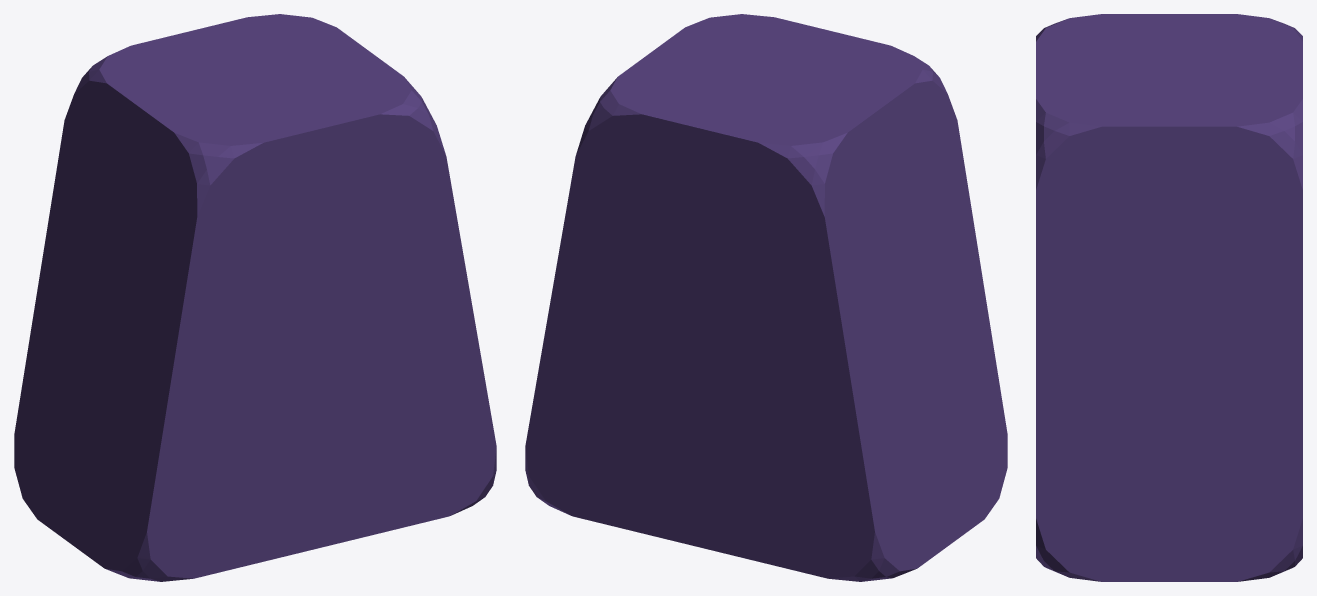
The model's file is body.obj.
3 renders of one model, left to right at view 1: azimuth 30°, elevation 25°; view 2: azimuth 150°, elevation 25°; view 3: azimuth 270°, elevation 25°, orthographic.
Parts seen in each view (by area): view 1: body; view 2: body; view 3: body.
Part boxes in pixels (box(x1,y1,x2,y2)): body: box(14, 14, 496, 581); body: box(525, 14, 1007, 581); body: box(1036, 14, 1302, 581).
Bounding box in the file's own units: 0.73 × 0.7917 × 0.4545.
Materials: 1 (1 with a texture image).
